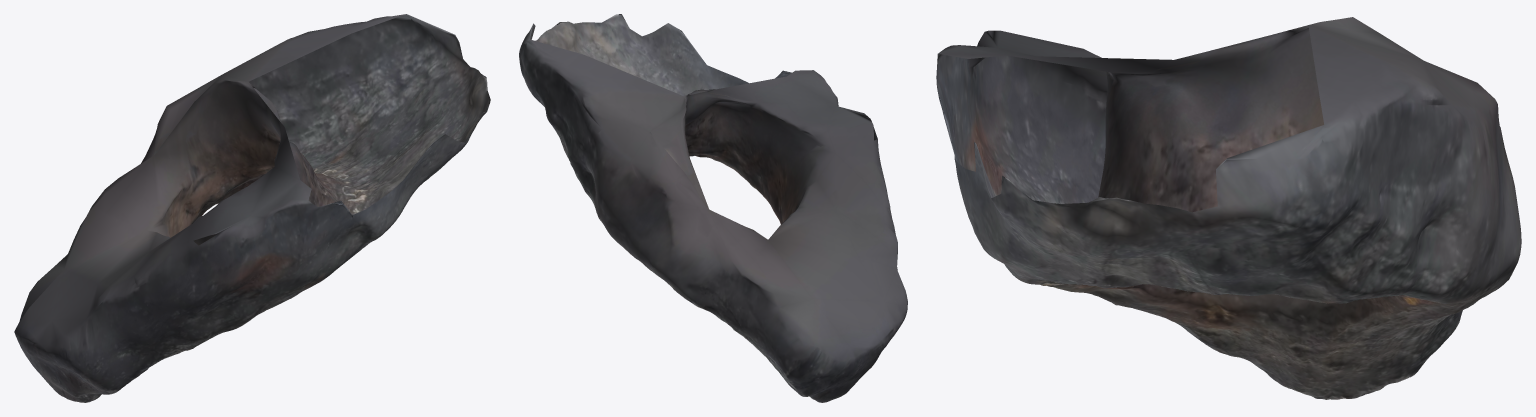
File: matou.glb
The picture shows the model from 3 angles, left to right: view 1: azimuth 30°, elevation 25°; view 2: azimuth 150°, elevation 25°; view 3: azimuth 270°, elevation 25°; orthographic projection. The views are drawn at different scales.
Parts seen in each view (by area): view 1: 3DModel; view 2: 3DModel; view 3: 3DModel.
Boxes of the visible parts, bbox=[...] form: 3DModel: bbox=[14, 14, 490, 402]; 3DModel: bbox=[519, 14, 907, 402]; 3DModel: bbox=[936, 17, 1521, 399].
Size of the model in its own units: 0.4416 by 0.315 by 0.2938.
Materials: 1 (1 with a texture image).
